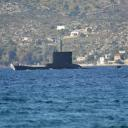submarine: (13, 50, 122, 71)
